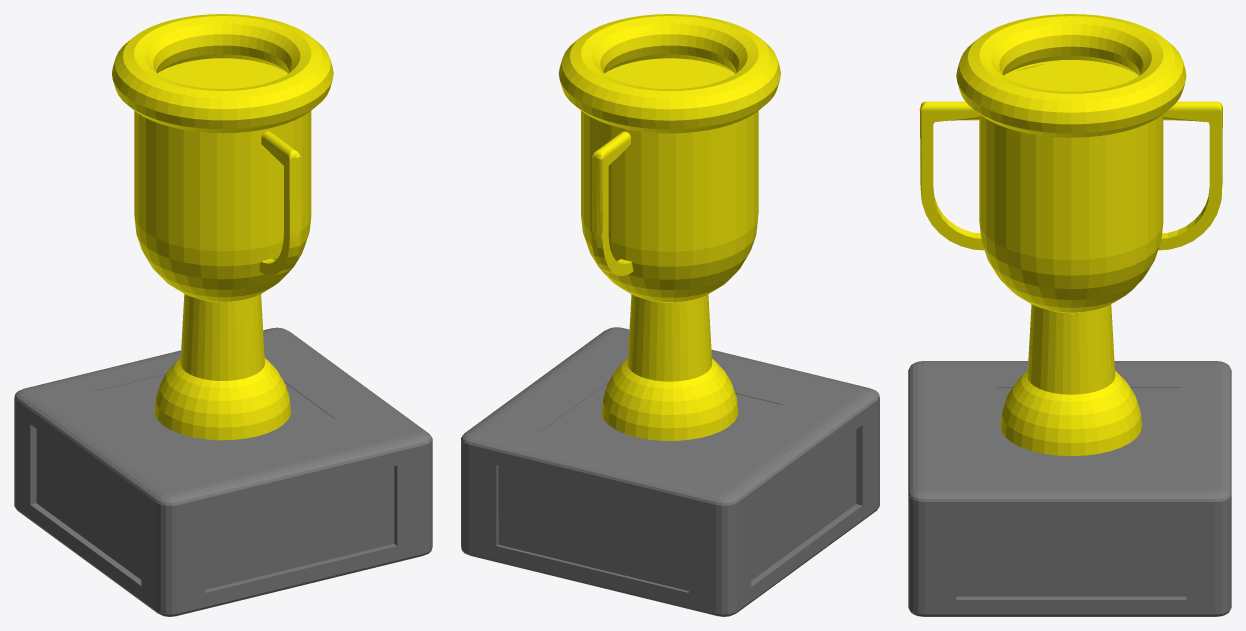
File: Tro.fbx
3 renders of one model, left to right at view 1: azimuth 30°, elevation 25°; view 2: azimuth 150°, elevation 25°; view 3: azimuth 270°, elevation 25°, orthographic. The views are drawn at different scales.
Visible parts, largest first — view 1: 큐브, 구체.001, Torus, 구체, 실린더, 구체.003; view 2: 큐브, 구체.001, Torus, 구체, 실린더, 구체.002; view 3: 큐브, 구체.001, Torus, 구체, 실린더, 구체.002, 구체.003.
Boxes of the visible parts, x1=… form: 큐브: x1=14, y1=327, x2=432, y2=616; 구체.001: x1=134, y1=58, x2=311, y2=302; Torus: x1=112, y1=14, x2=333, y2=133; 구체: x1=154, y1=358, x2=290, y2=440; 실린더: x1=180, y1=294, x2=264, y2=380; 구체.003: x1=259, y1=131, x2=300, y2=275; 큐브: x1=461, y1=327, x2=879, y2=616; 구체.001: x1=581, y1=58, x2=758, y2=302; Torus: x1=558, y1=14, x2=780, y2=133; 구체: x1=601, y1=358, x2=738, y2=440; 실린더: x1=627, y1=294, x2=712, y2=381; 구체.002: x1=592, y1=131, x2=633, y2=275; 큐브: x1=908, y1=361, x2=1231, y2=616; 구체.001: x1=979, y1=60, x2=1163, y2=312; Torus: x1=956, y1=14, x2=1186, y2=137; 구체: x1=1000, y1=371, x2=1142, y2=456; 실린더: x1=1027, y1=304, x2=1115, y2=394; 구체.002: x1=1158, y1=101, x2=1222, y2=250; 구체.003: x1=919, y1=101, x2=984, y2=250.
Size of the model in its own units: 356 by 595 by 351.
